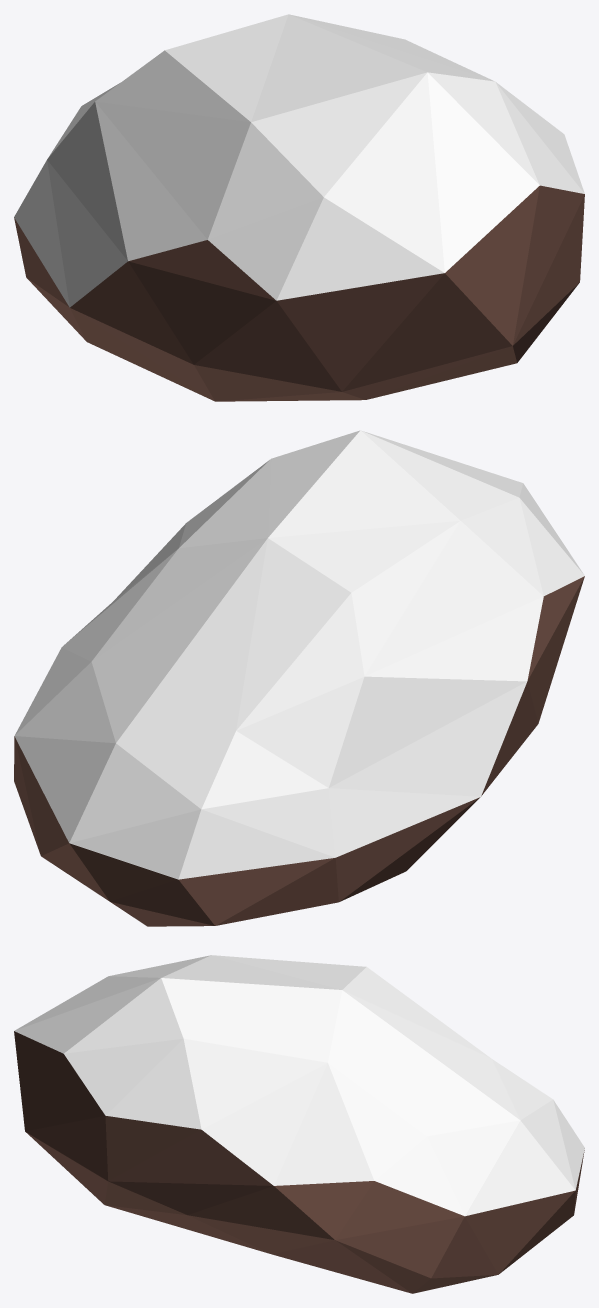
The model's file is snow_stone_011.fbx.
3 views of the same model, one above another, from view 1: azimuth 30°, elevation 25°; view 2: azimuth 150°, elevation 25°; view 3: azimuth 270°, elevation 25° (orthographic). The views are drawn at different scales.
Parts seen in each view (by area): view 1: snow_stone_011; view 2: snow_stone_011; view 3: snow_stone_011.
Boxes of the visible parts, box(x1,y1,x2,y2) form: snow_stone_011: box(14, 14, 584, 401); snow_stone_011: box(14, 430, 584, 926); snow_stone_011: box(14, 955, 584, 1293).
Bounding box in the file's own units: 615 × 879 × 480.
